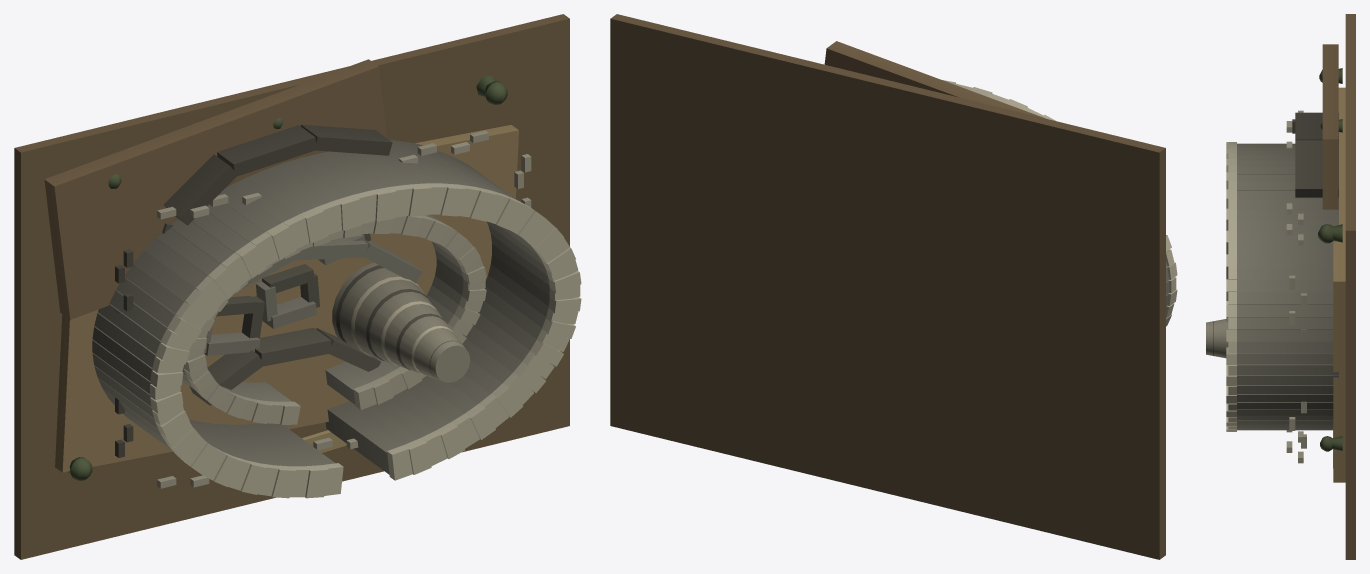
File: great-zimbabwe.glb
The picture shows the model from 3 angles, left to right: view 1: azimuth 30°, elevation 25°; view 2: azimuth 150°, elevation 25°; view 3: azimuth 270°, elevation 25°; orthographic projection. The views are drawn at different scales.
Visible parts, largest first — view 1: part-earth, part-wall, part-graniteLight, part-earthLight, part-granite, part-wallShade, part-tower, part-graniteDark, part-brush, part-towerLight; view 2: part-earth, part-graniteLight; view 3: part-wall, part-earth, part-graniteLight, part-earthLight, part-wallShade, part-brush, part-tower.
Part boxes in pixels (x1,y1,x2,y2): part-earth: [14, 14, 569, 559]; part-wall: [92, 140, 549, 474]; part-graniteLight: [150, 130, 581, 498]; part-earthLight: [55, 125, 518, 472]; part-granite: [182, 214, 463, 404]; part-wallShade: [115, 124, 462, 457]; part-tower: [332, 262, 469, 382]; part-graniteDark: [162, 223, 380, 405]; part-brush: [67, 75, 507, 480]; part-towerLight: [351, 276, 453, 374]; part-earth: [610, 14, 1165, 559]; part-graniteLight: [942, 80, 1177, 326]; part-wall: [1237, 143, 1338, 430]; part-earth: [1322, 14, 1355, 559]; part-graniteLight: [1226, 110, 1306, 463]; part-earthLight: [1333, 87, 1345, 482]; part-wallShade: [1213, 112, 1338, 355]; part-brush: [1318, 68, 1342, 451]; part-tower: [1206, 319, 1228, 358].
Size of the model in its own units: 1.58 by 1.15 by 0.462.
